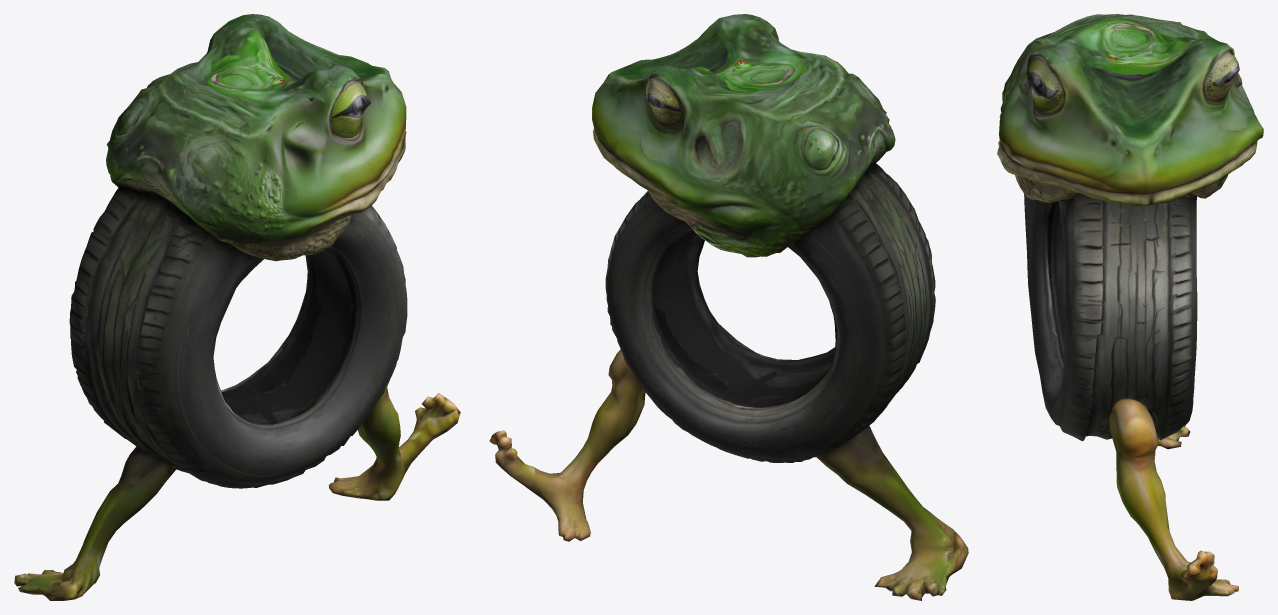
File: ambalabu.glb
The picture shows the model from 3 angles, left to right: view 1: azimuth 30°, elevation 25°; view 2: azimuth 150°, elevation 25°; view 3: azimuth 270°, elevation 25°; orthographic projection. The views are drawn at different scales.
Size of the model in its own units: 1.9 by 2 by 0.9703.
1 material, 1 textured.
